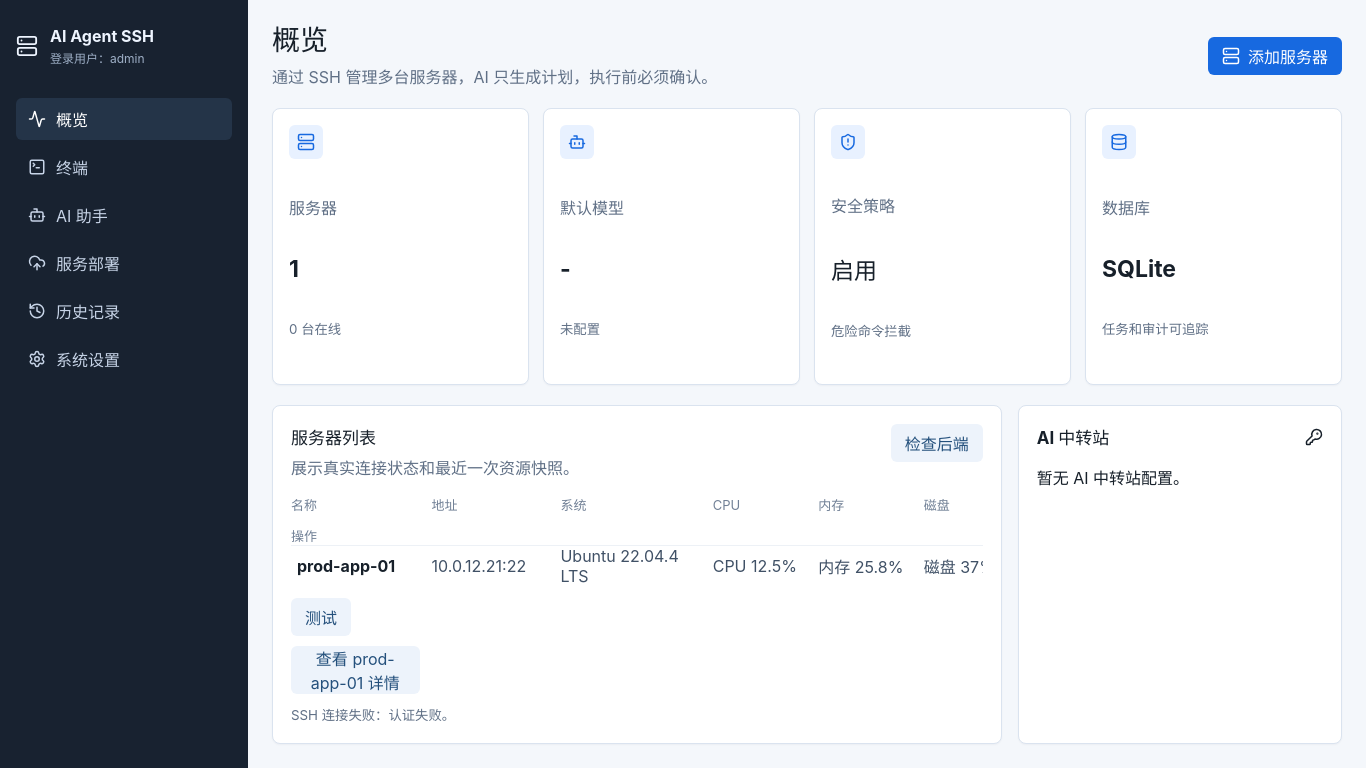
Scenario: App interactions › runs commands from the terminal surface and shows the server rail
Click the button "终端": (124, 167) [16,146,232,188]
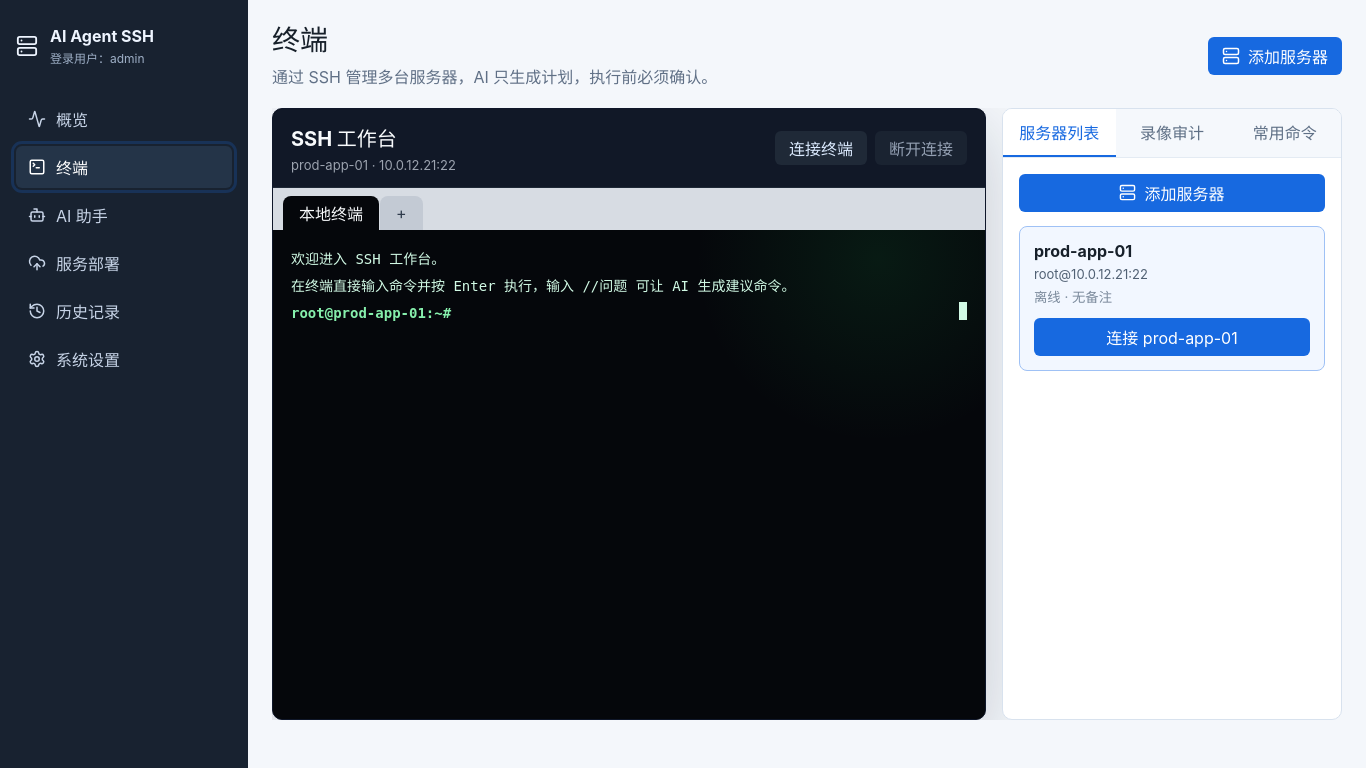
Expected: the tab "服务器列表" is shown, [1003,109,1116,157]
Now the heading "SSH 工作台" is shown, box [291,127,397,151]
Now the 2nd button "添加服务器" is shown, box [1019,174,1325,212]
Click the button "连接 prod-app-01": (1172, 337) [1034,318,1310,356]
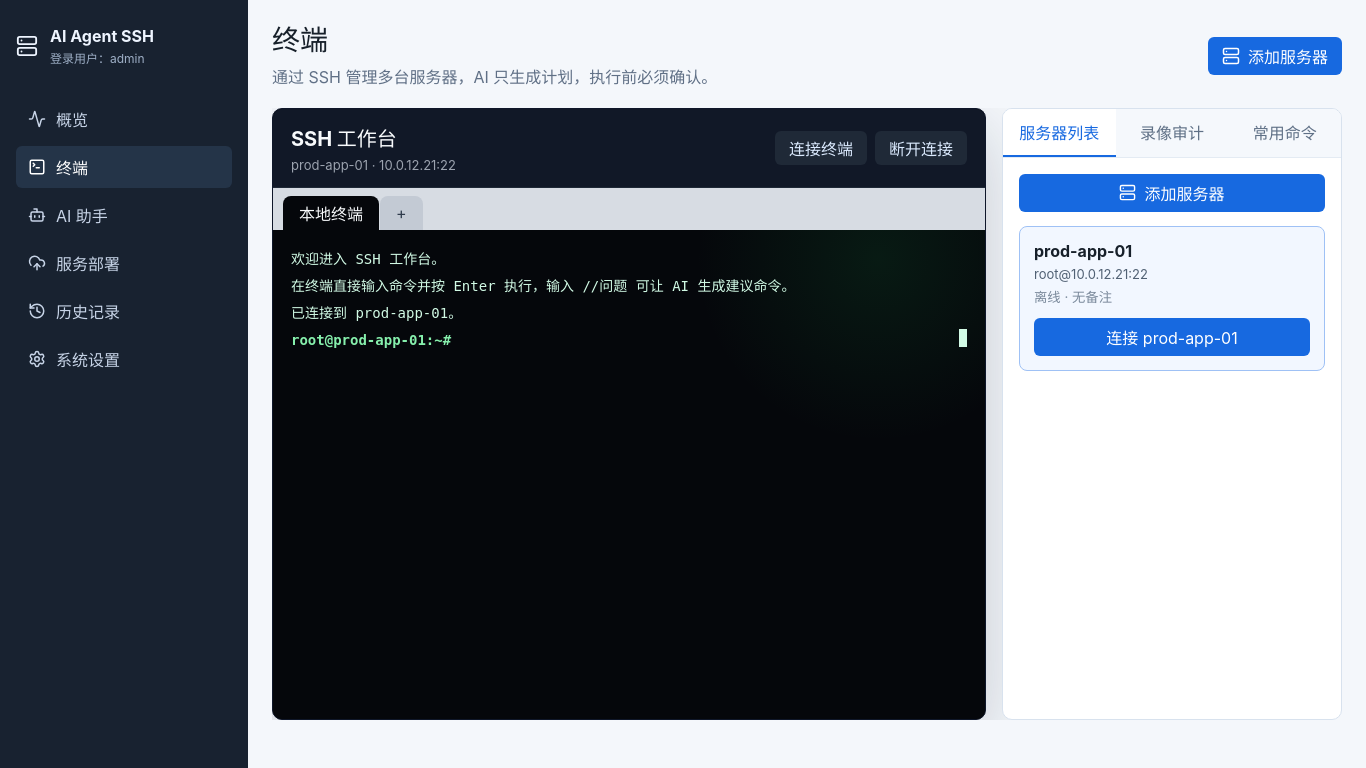
Now the text "已连接到 prod-app-01。" is shown, box [291,305,462,321]
Type keys "pwd{Enter}"
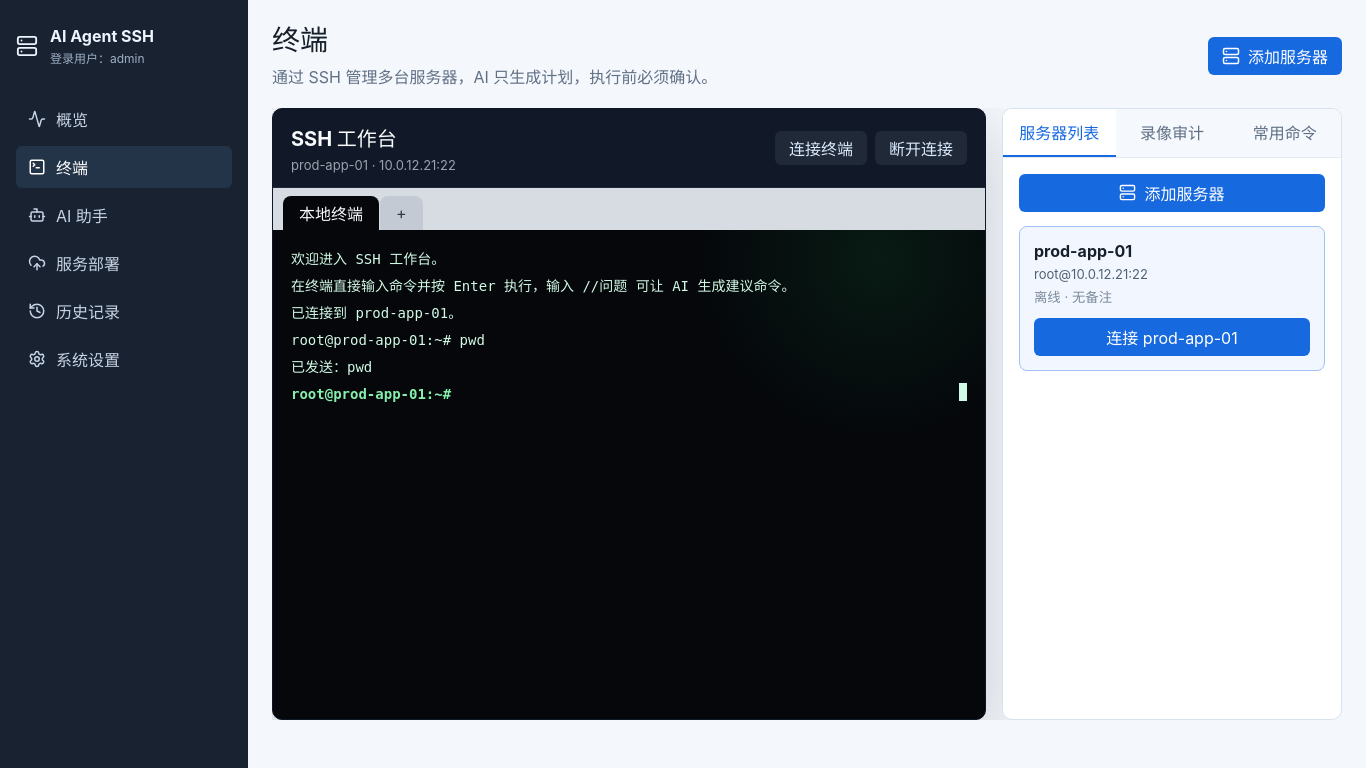
Now the text "root@prod-app-01:~# pwd" is shown, box [291,332,485,348]
